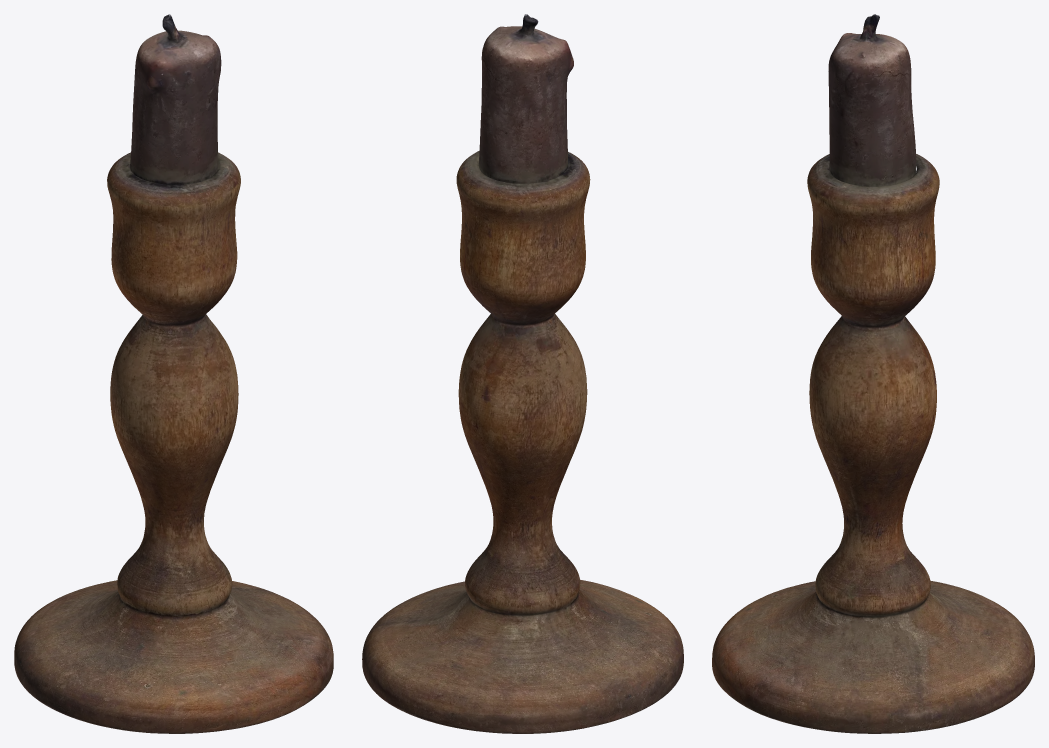
File: wooden_candlestick.glb
3 views of the same model, side by side, from view 1: azimuth 30°, elevation 25°; view 2: azimuth 150°, elevation 25°; view 3: azimuth 270°, elevation 25° (orthographic).
Visible parts, largest first — view 1: wooden_candlestick; view 2: wooden_candlestick; view 3: wooden_candlestick.
Part boxes in pixels (x1,y1,x2,y2): wooden_candlestick: (14, 14, 333, 733); wooden_candlestick: (362, 14, 683, 733); wooden_candlestick: (712, 14, 1034, 733).
Size of the model in its own units: 0.0972 by 0.2197 by 0.0986.
Materials: 1 (1 with a texture image).
